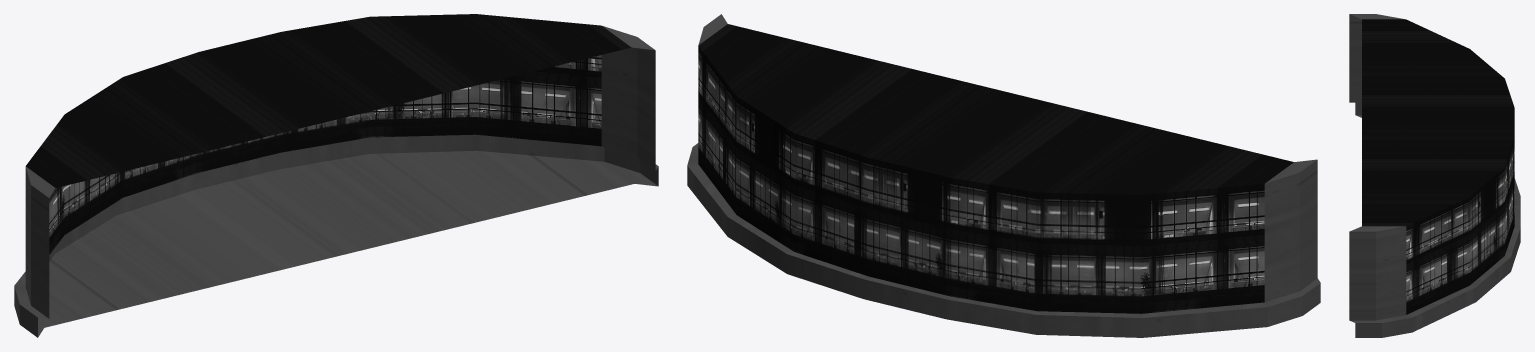
File: SM_BuildingRounded.FBX
3 views of the same model, side by side, from view 1: azimuth 30°, elevation 25°; view 2: azimuth 150°, elevation 25°; view 3: azimuth 270°, elevation 25° (orthographic). The views are drawn at different scales.
Visible parts, largest first — view 1: SM_BuildingGroundRounded; view 2: SM_BuildingGroundRounded; view 3: SM_BuildingGroundRounded.
Boxes of the visible parts, bbox=[...] form: SM_BuildingGroundRounded: bbox=[14, 14, 658, 337]; SM_BuildingGroundRounded: bbox=[687, 14, 1320, 337]; SM_BuildingGroundRounded: bbox=[1349, 14, 1520, 337].
Size of the model in its own units: 1842 by 400 by 599.
